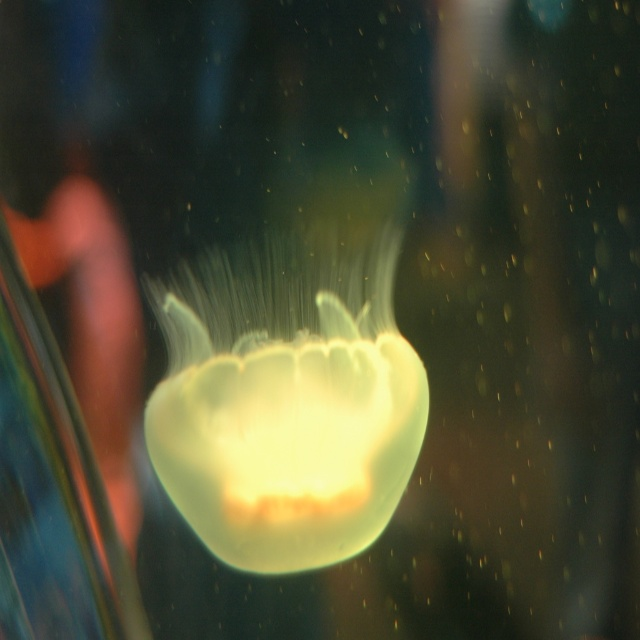Jellyfish: (133, 230, 440, 567)
